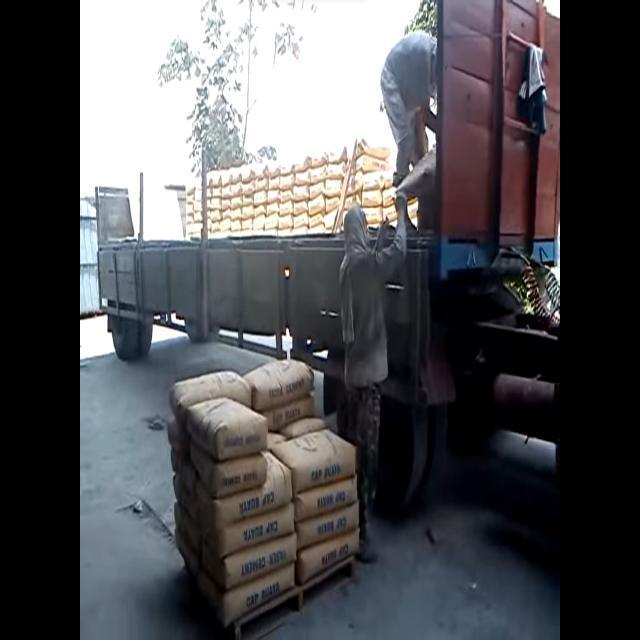gunny_bag: (195, 452, 292, 532), (197, 562, 294, 628), (271, 429, 356, 496), (202, 532, 297, 590), (203, 502, 294, 559), (186, 397, 267, 460), (190, 441, 267, 498), (169, 370, 251, 423), (244, 360, 309, 412), (295, 501, 359, 550), (294, 476, 358, 521), (362, 189, 383, 206), (309, 193, 325, 215), (325, 178, 342, 196), (295, 168, 311, 185), (254, 189, 267, 205), (294, 200, 308, 214), (280, 188, 293, 202), (253, 214, 265, 229), (266, 201, 279, 214), (231, 181, 242, 196), (231, 195, 242, 208)
